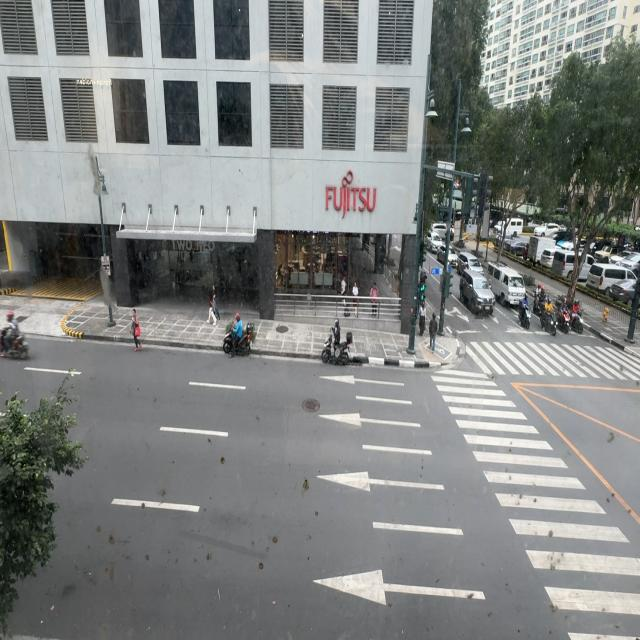jaywalking: (132, 308, 144, 350)
pedestrain: (208, 288, 219, 326), (418, 298, 426, 336), (370, 282, 378, 317), (340, 276, 347, 311), (352, 281, 359, 316), (208, 288, 214, 307)
waiting: (429, 313, 438, 350)
